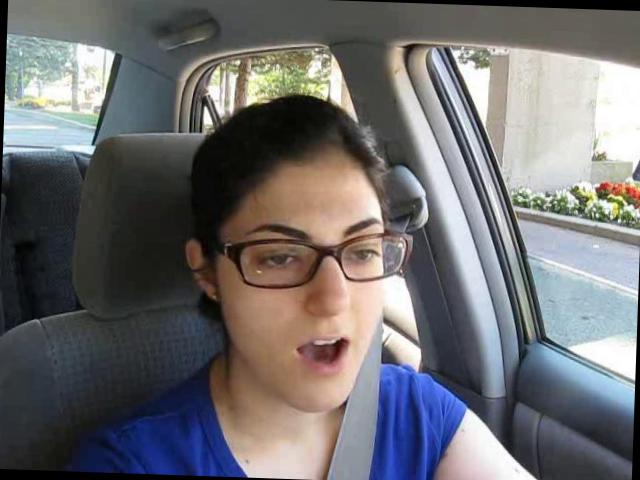eye_open: (251, 243, 307, 276), (341, 241, 386, 272)
face: (214, 196, 401, 420)
mouth_open: (288, 326, 359, 378)
